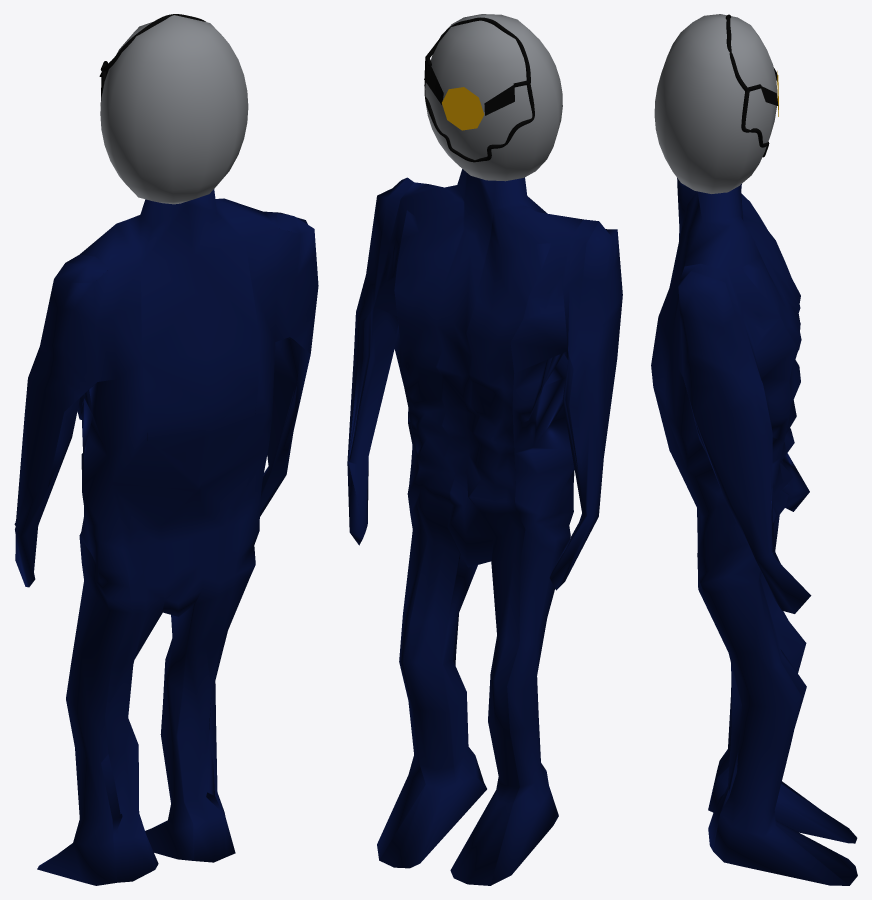
Rendered from NinjaChar(1).fbx.
The picture shows the model from 3 angles, left to right: view 1: azimuth 30°, elevation 25°; view 2: azimuth 150°, elevation 25°; view 3: azimuth 270°, elevation 25°; orthographic projection. The views are drawn at different scales.
Visible parts, largest first — view 1: s.0053, s.0062; view 2: s.0053, s.0062, s.0156, s.0170, s.0169; view 3: s.0053, s.0062.
Part boxes in pixels (x1,y1,x2,y2): s.0053: (14,189,318,885); s.0062: (100,15,248,204); s.0053: (347,169,622,885); s.0062: (425,14,562,181); s.0156: (442,87,484,130); s.0170: (424,58,534,162); s.0169: (426,17,530,82); s.0053: (651,178,857,885); s.0062: (654,14,777,193).
Bounding box in the file's own units: 0.8675 × 0.6101 × 2.74.
